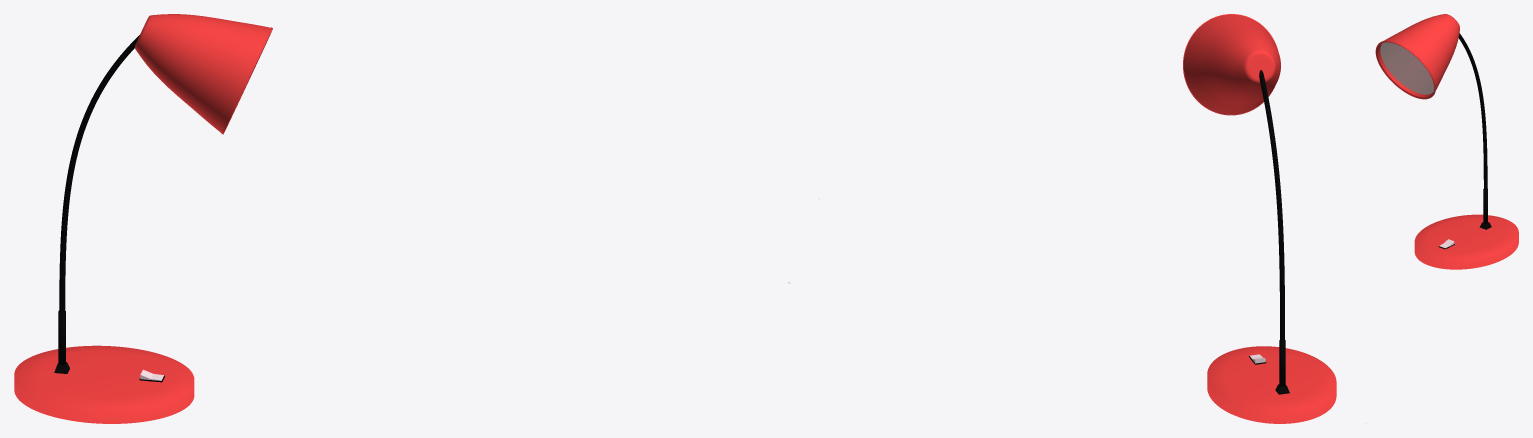
File: lamp.fbx
The picture shows the model from 3 angles, left to right: view 1: azimuth 30°, elevation 25°; view 2: azimuth 150°, elevation 25°; view 3: azimuth 270°, elevation 25°; orthographic projection. The views are drawn at different scales.
Visible parts, largest first — view 1: Cylinder, Cylinder.002, Cylinder.001; view 2: Cylinder, Cylinder.002, Cylinder.001; view 3: Cylinder.002, Cylinder, Cylinder.003, Cylinder.001.
Part boxes in pixels (left/top/right/bottom): Cylinder: left=14, top=345, right=194, bottom=423; Cylinder.002: left=134, top=14, right=272, bottom=134; Cylinder.001: left=58, top=35, right=139, bottom=364; Cylinder: left=1207, top=346, right=1336, bottom=423; Cylinder.002: left=1183, top=14, right=1280, bottom=115; Cylinder.001: left=1259, top=70, right=1285, bottom=386; Cylinder.002: left=1375, top=14, right=1459, bottom=99; Cylinder: left=1414, top=214, right=1518, bottom=269; Cylinder.003: left=1380, top=42, right=1434, bottom=94; Cylinder.001: left=1458, top=33, right=1487, bottom=223.
Size of the model in its own units: 105 by 56.47 by 32.3.
